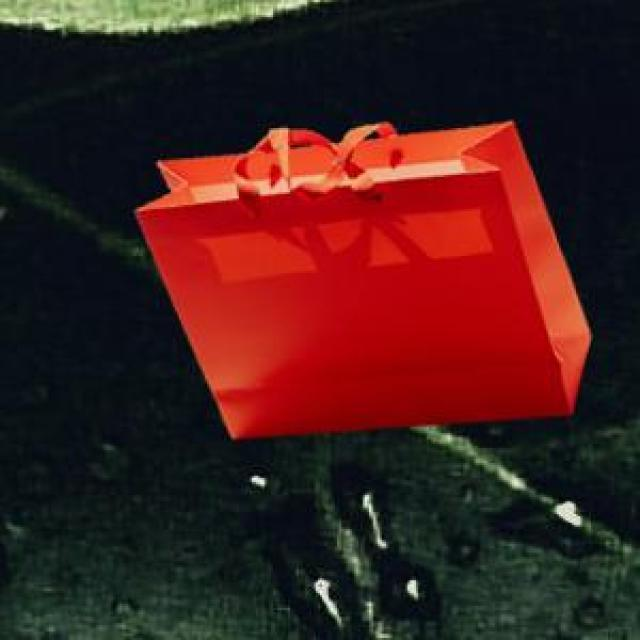paper: (132, 117, 587, 435)
